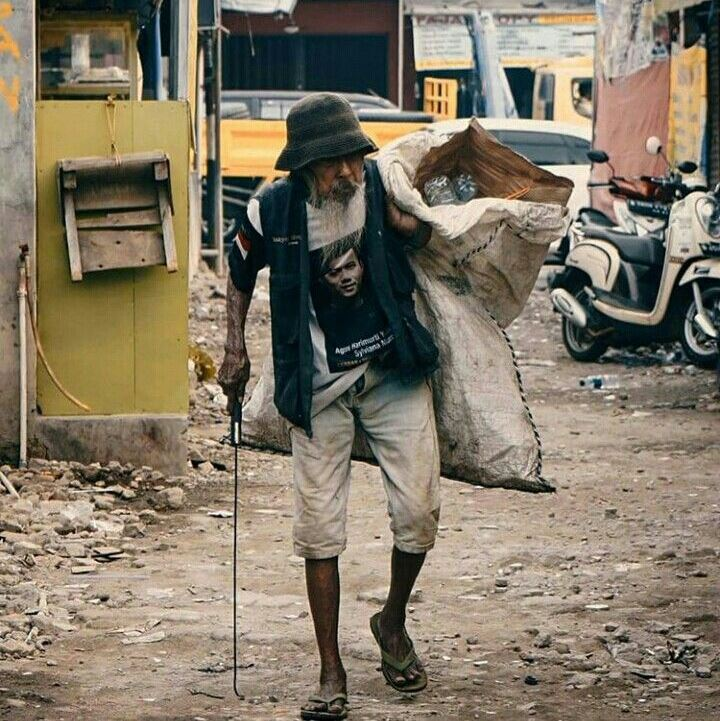pemulung: (186, 81, 584, 721)
